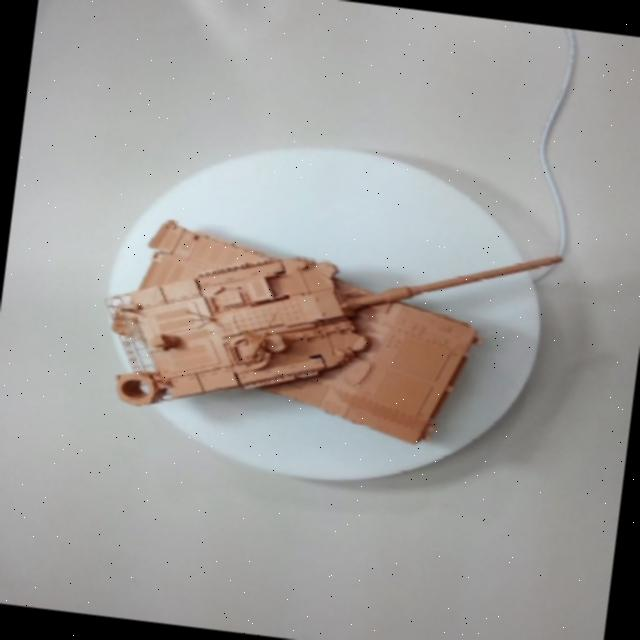korea tank: (73, 94, 560, 514)
